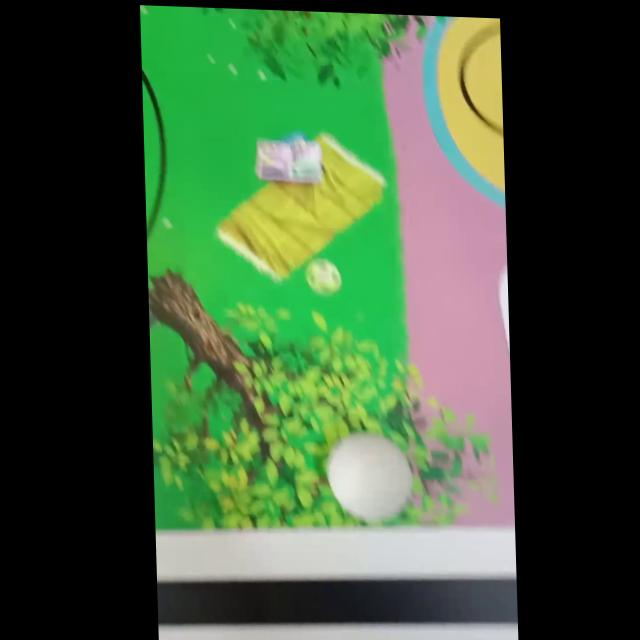white ball: (324, 430, 415, 523)
